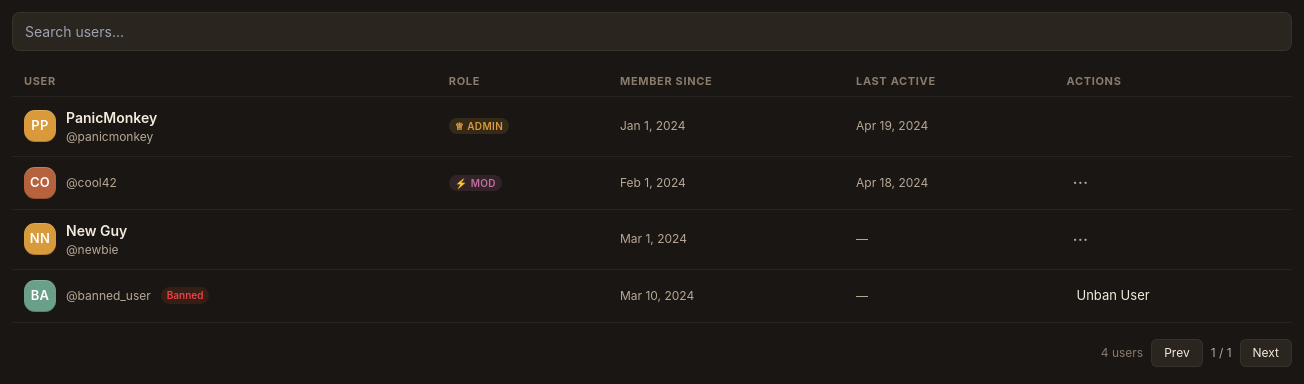
Test: UserTable — search › filters rows by username
Type "cool" into the field with class "user-search" at {"x": 652, "y": 32}, box [12, 12, 1292, 51]
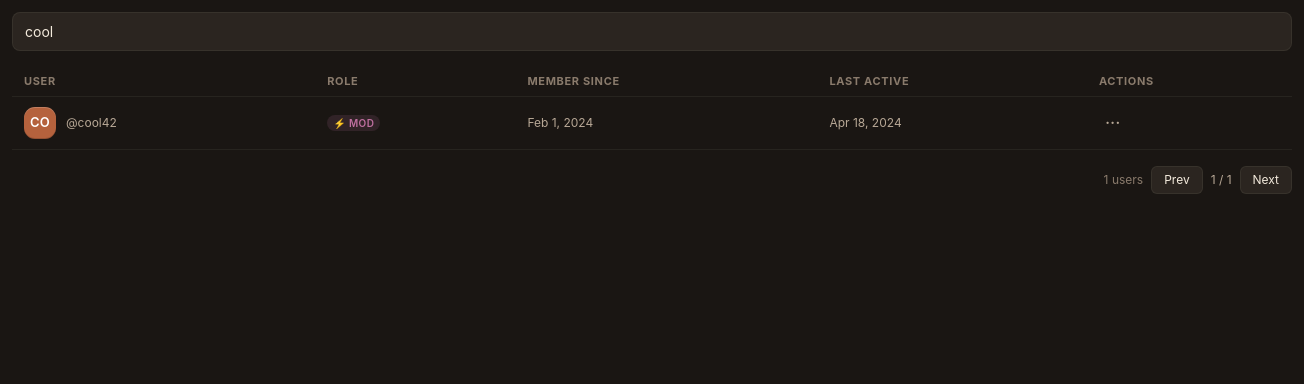
Expected: the number of rows with class "user-row" is 1, [12, 96, 1292, 149]
